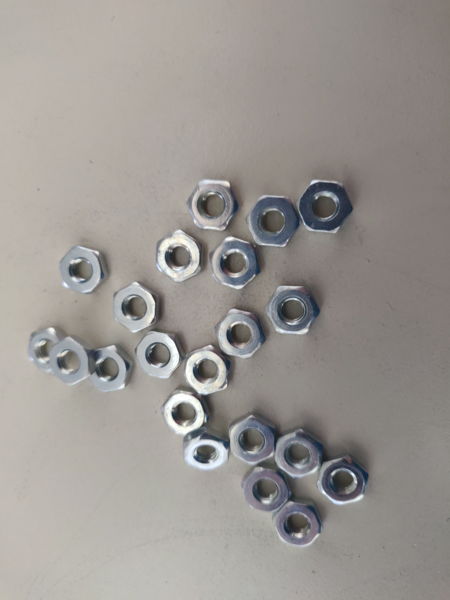nut: (300, 180, 352, 235), (216, 309, 269, 361), (268, 286, 320, 338), (247, 196, 298, 249), (181, 347, 234, 398), (155, 230, 204, 283), (188, 181, 238, 232), (135, 332, 190, 378), (112, 284, 161, 335), (318, 457, 370, 505), (59, 247, 109, 296), (212, 238, 260, 288), (272, 503, 324, 549), (275, 431, 324, 479), (228, 417, 278, 464), (86, 342, 131, 393), (50, 336, 91, 389), (242, 468, 286, 514), (165, 391, 211, 433), (182, 431, 226, 473), (28, 327, 59, 376)
